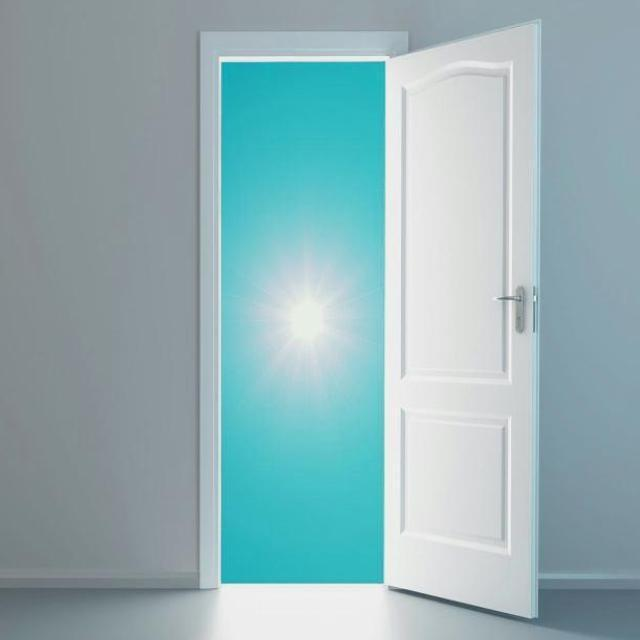door: (383, 18, 540, 619)
